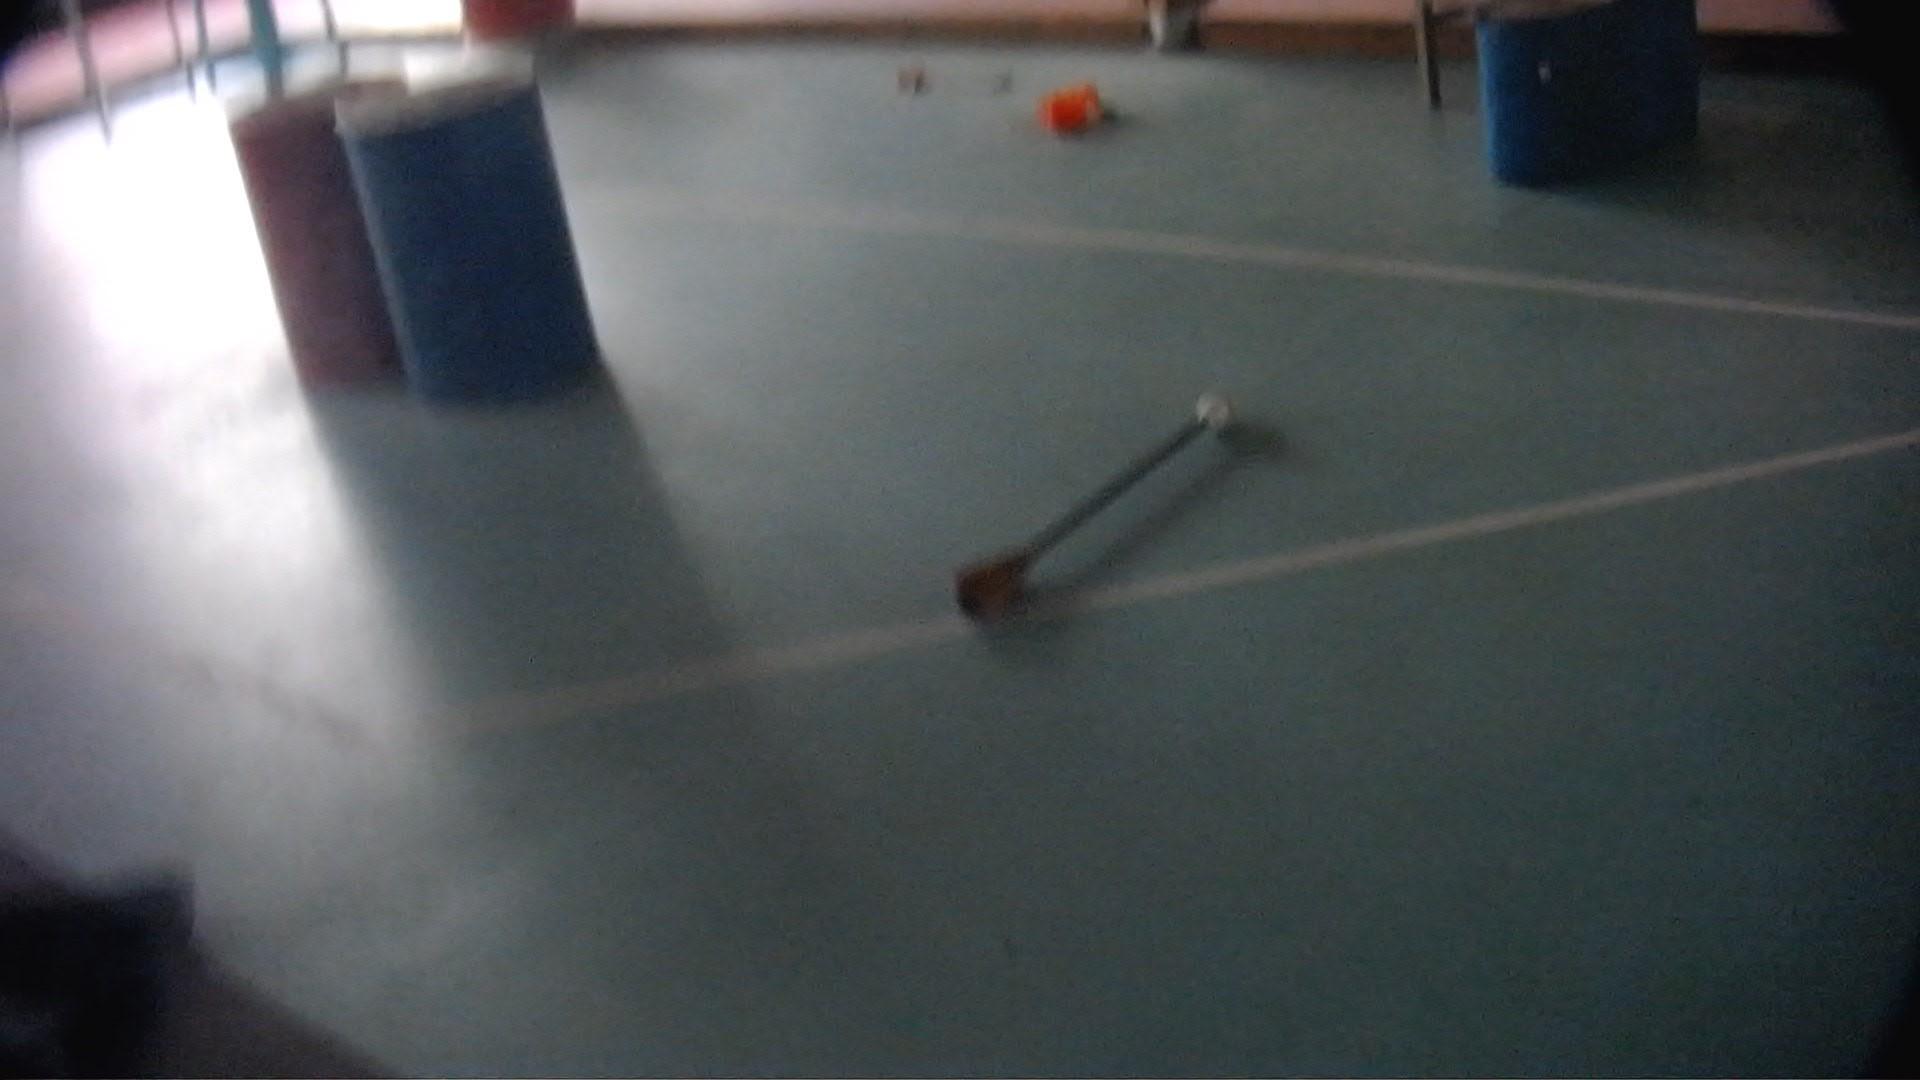arrow: (949, 389, 1230, 618)
arrowFront: (1189, 389, 1232, 431)
